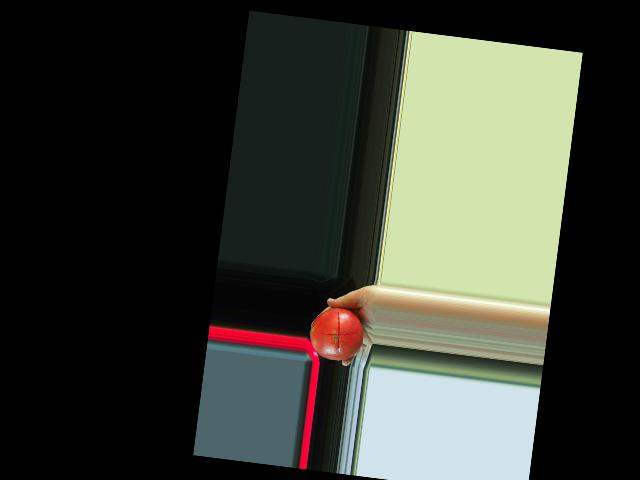tomato: (307, 304, 367, 364)
